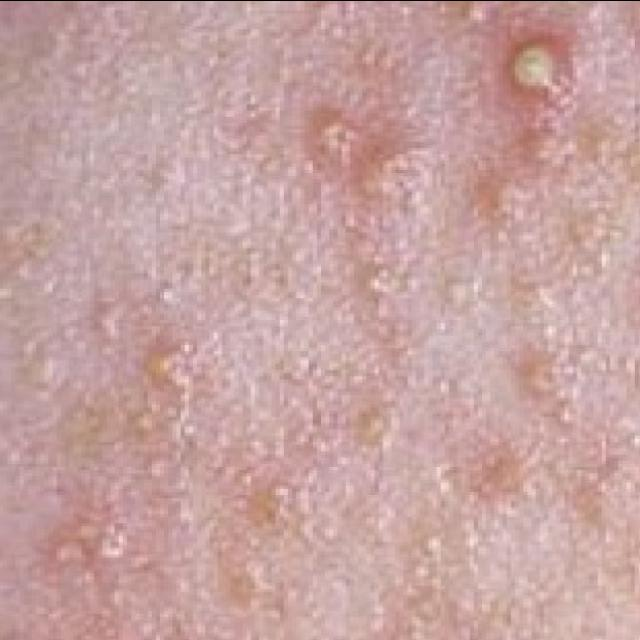whitehead: (0, 35, 626, 636)
